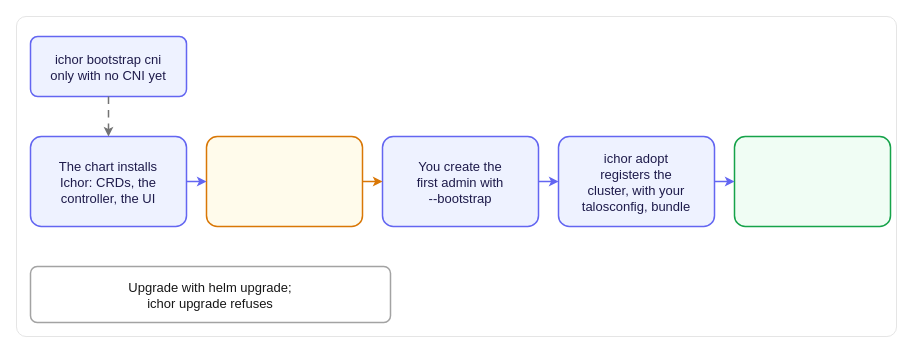
Image size: 913x353. Some labels were removed from this diagram. The centre of each missing label's shape, as x and y in pixels:
ichor-ui refuses every request until an admin exists: pixel 284 181
The cluster is managed by Ichor: pixel 812 181
